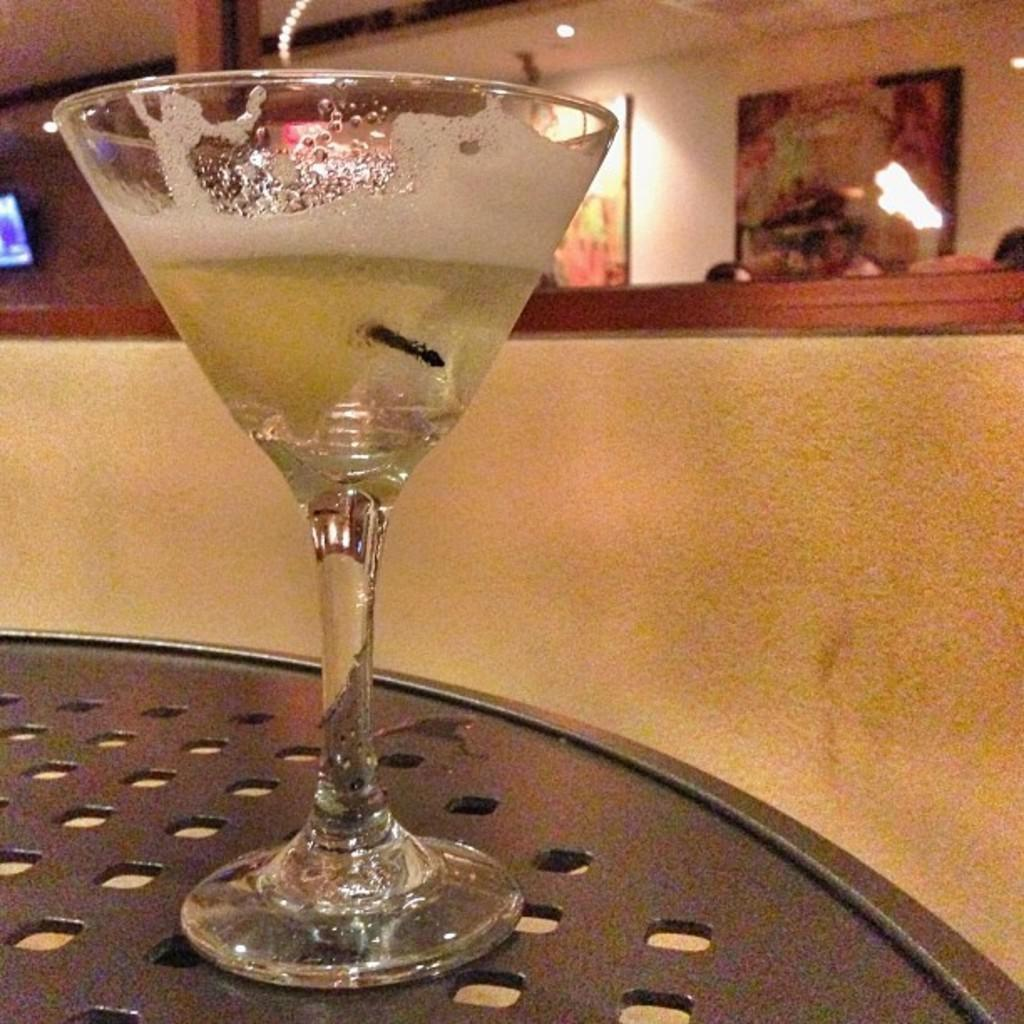glass-wine: (50, 65, 624, 997)
